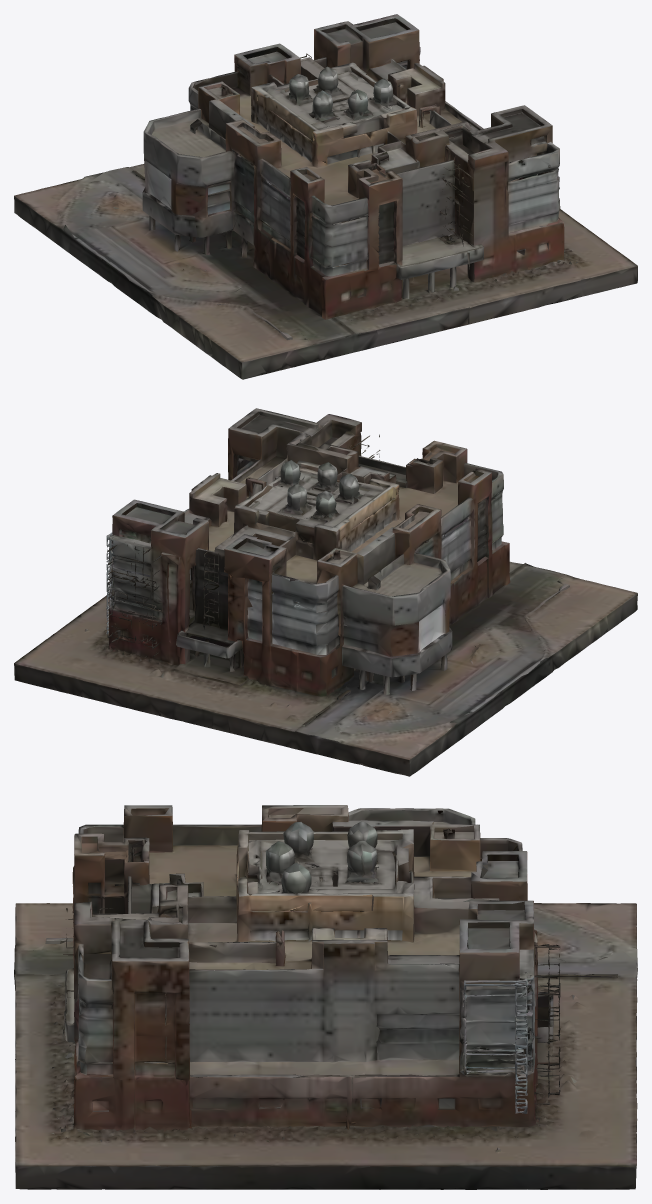
The model's file is matrouh-university-1.glb.
The picture shows the model from 3 angles, top to bottom: view 1: azimuth 30°, elevation 25°; view 2: azimuth 150°, elevation 25°; view 3: azimuth 270°, elevation 25°; orthographic projection. The views are drawn at different scales.
Size of the model in its own units: 1 by 0.4056 by 1.
1 material, 1 textured.
